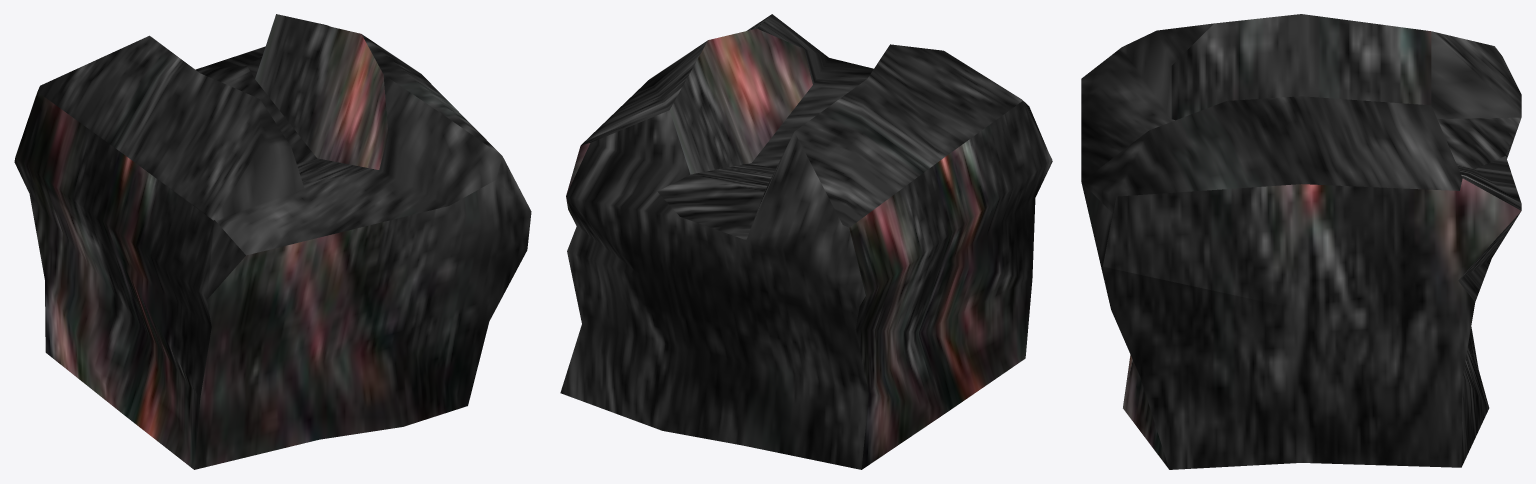
The model's file is RocaDeMenaBase.fbx.
3 renders of one model, left to right at view 1: azimuth 30°, elevation 25°; view 2: azimuth 150°, elevation 25°; view 3: azimuth 270°, elevation 25°, orthographic. The views are drawn at different scales.
Parts seen in each view (by area): view 1: Cube; view 2: Cube; view 3: Cube.
Part boxes in pixels (x1=…): Cube: x1=14, y1=14, x2=531, y2=469; Cube: x1=560, y1=14, x2=1052, y2=469; Cube: x1=1081, y1=14, x2=1521, y2=469.
Bounding box in the file's own units: 307 × 294 × 333.
